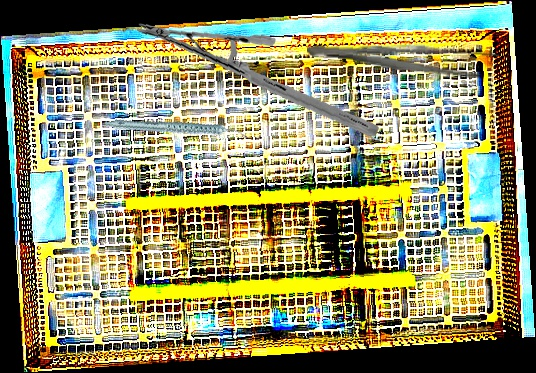Dressing Forceps: (306, 35, 500, 80)
Handpiece: (102, 91, 249, 169)
Needle Holder: (135, 2, 380, 156)
